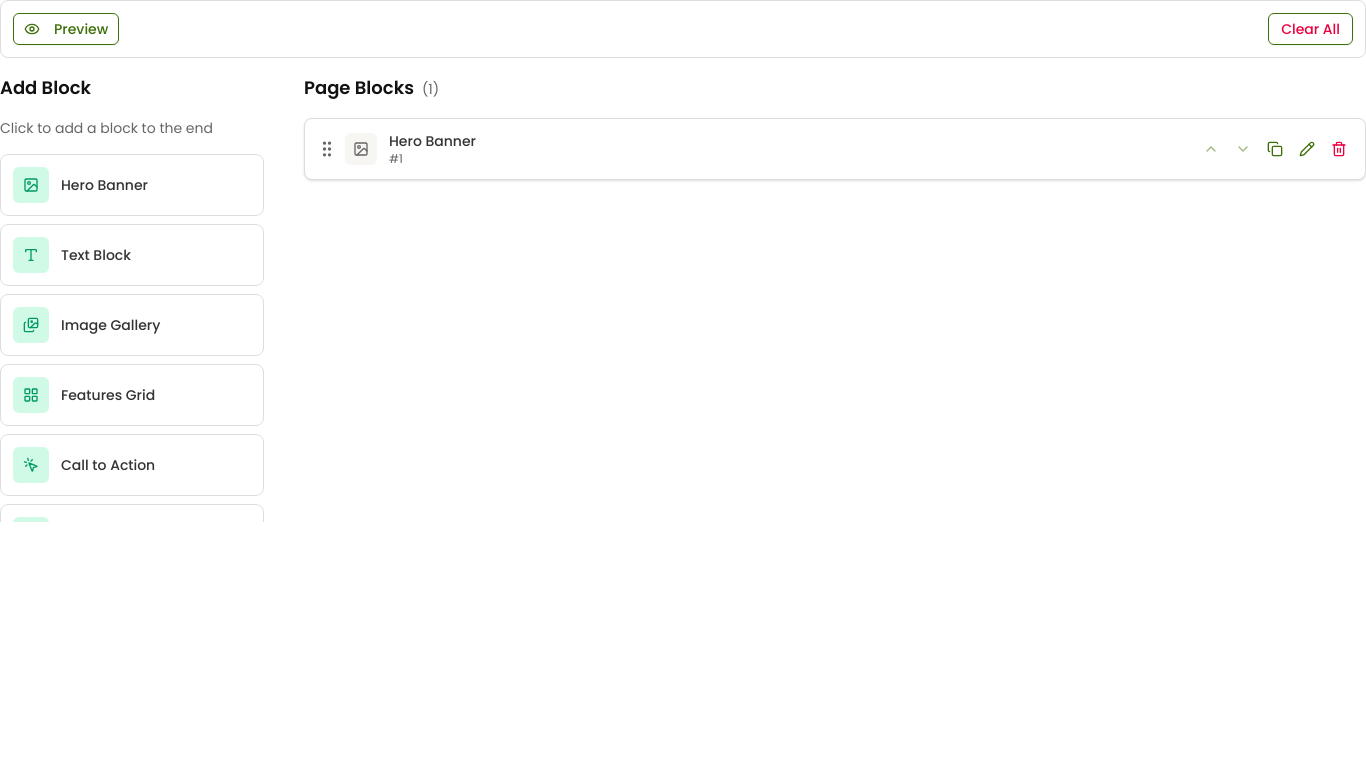
Test: Bug Condition Exploration: CMS Block Data Display in Admin UI › Bug Condition Analysis › demonstrates the root cause: normalizeBlockData vs UI field population mismatch
The width and height of the screenshot is (1366, 768).
Step 1. Click the button titled "Edit Block" → point(1307, 149), box [1293,135,1321,163]
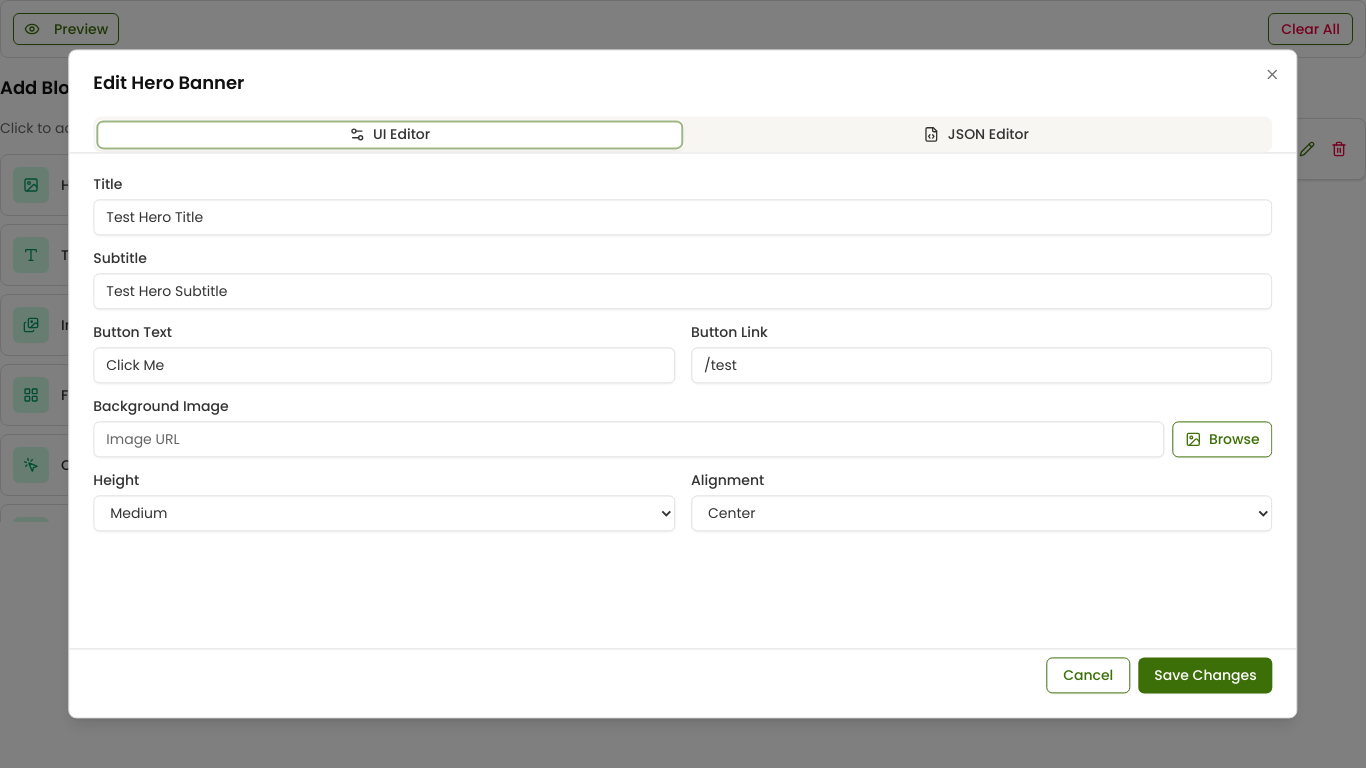
Check: the 1st field showing "Test Hero Title" is shown, box [93,199,1273,235]
Check: the field showing "Test Hero Subtitle" below "Subtitle" is shown, box [93,273,1273,309]
